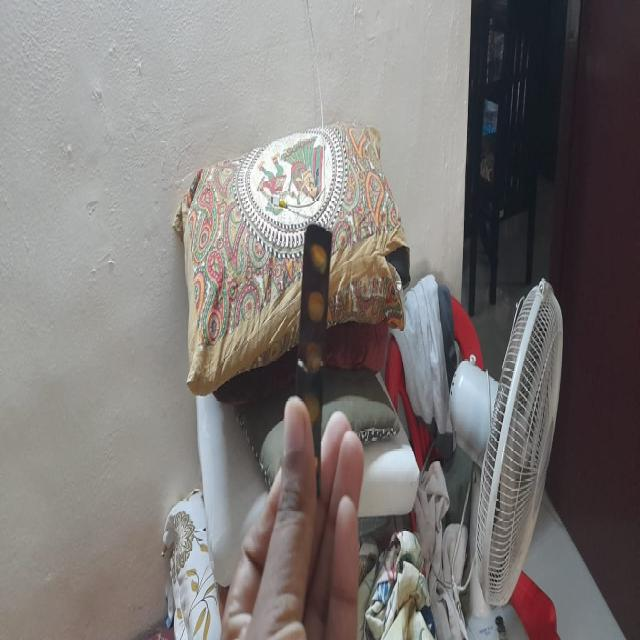Blister_Packs - Non Recyclable: (288, 217, 336, 515)
